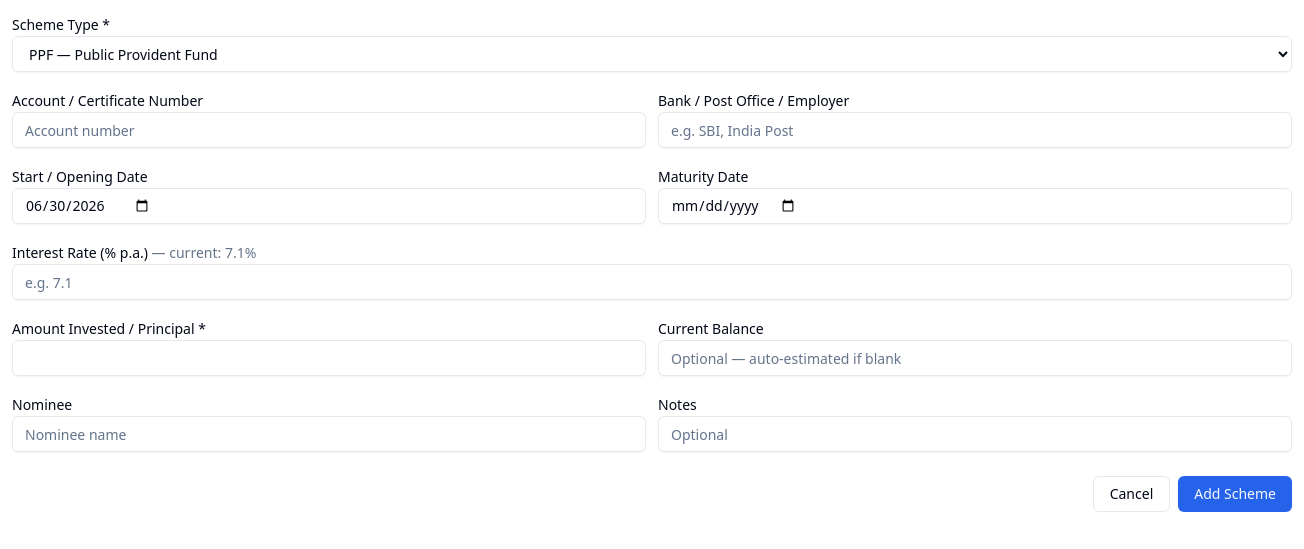
GovtSchemeForm › submitting empty required fields shows validation error
Step 1. Click the button "Add Scheme" → coordinates (1235, 494), box [1178,476,1292,512]
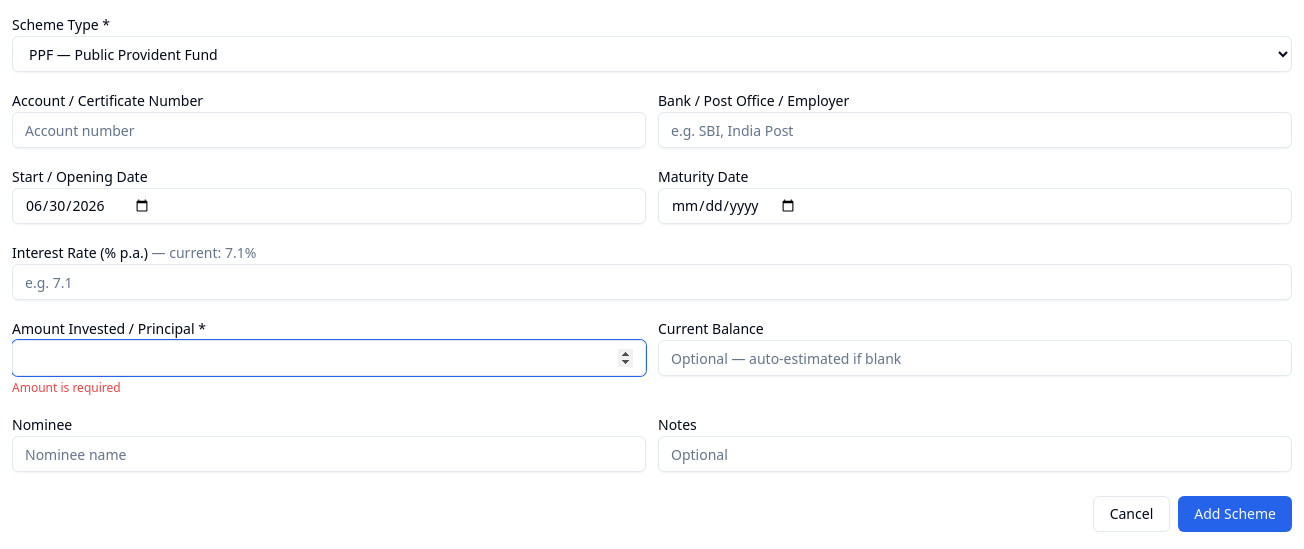
Expected: the text "Amount is required" is shown, [12,379,121,396]
